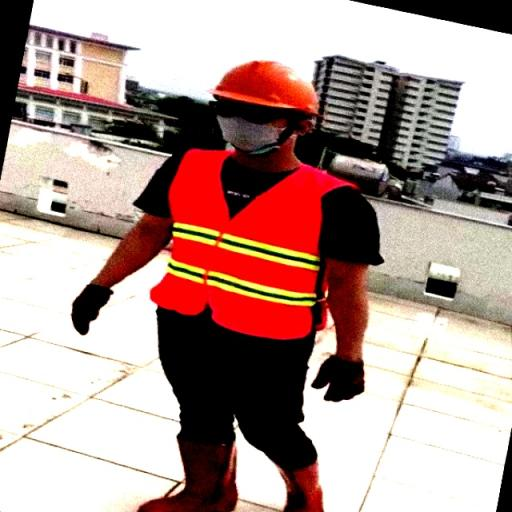Person: (66, 48, 394, 510)
boots: (128, 433, 248, 512), (266, 461, 336, 512)
gloves: (308, 355, 370, 407), (64, 280, 114, 341)
goggles: (205, 100, 308, 126)
helmet: (207, 58, 322, 116)
vest: (159, 151, 333, 340)
